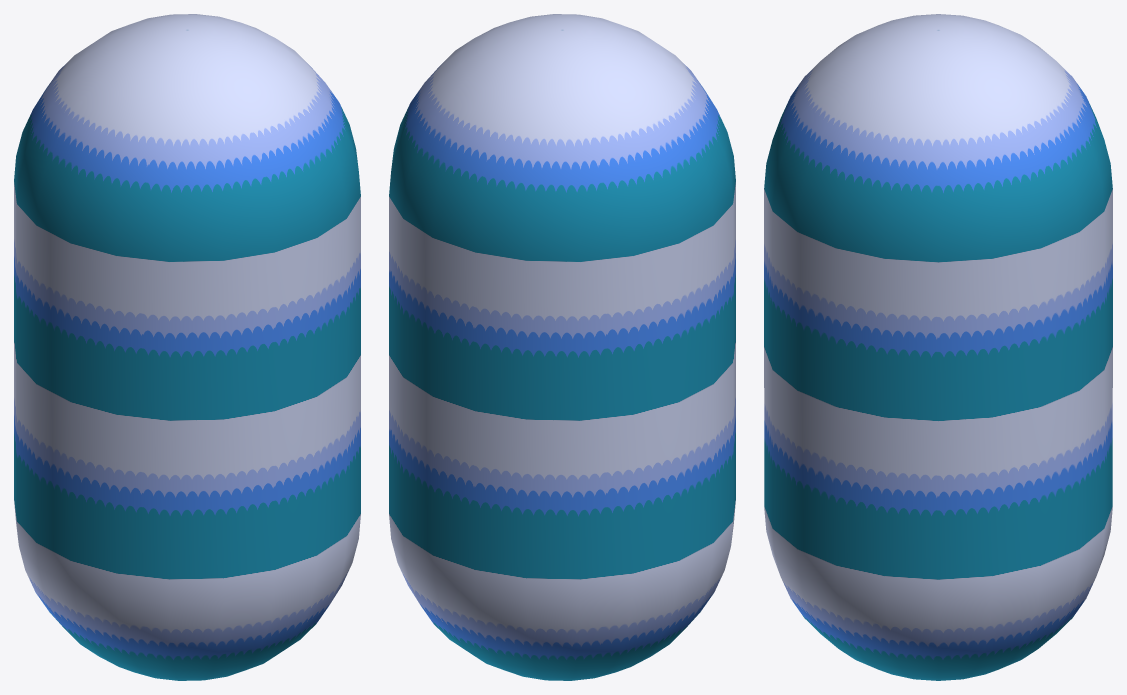
Rendered from Ike.fbx.
3 views of the same model, side by side, from view 1: azimuth 30°, elevation 25°; view 2: azimuth 150°, elevation 25°; view 3: azimuth 270°, elevation 25° (orthographic).
Parts seen in each view (by area): view 1: Capsule2; view 2: Capsule2; view 3: Capsule2.
Part boxes in pixels (x1=…): Capsule2: x1=14, y1=14, x2=360, y2=680; Capsule2: x1=389, y1=14, x2=735, y2=680; Capsule2: x1=764, y1=14, x2=1112, y2=680.
Size of the model in its own units: 545 by 1093 by 545.
Materials: 1 (1 with a texture image).
